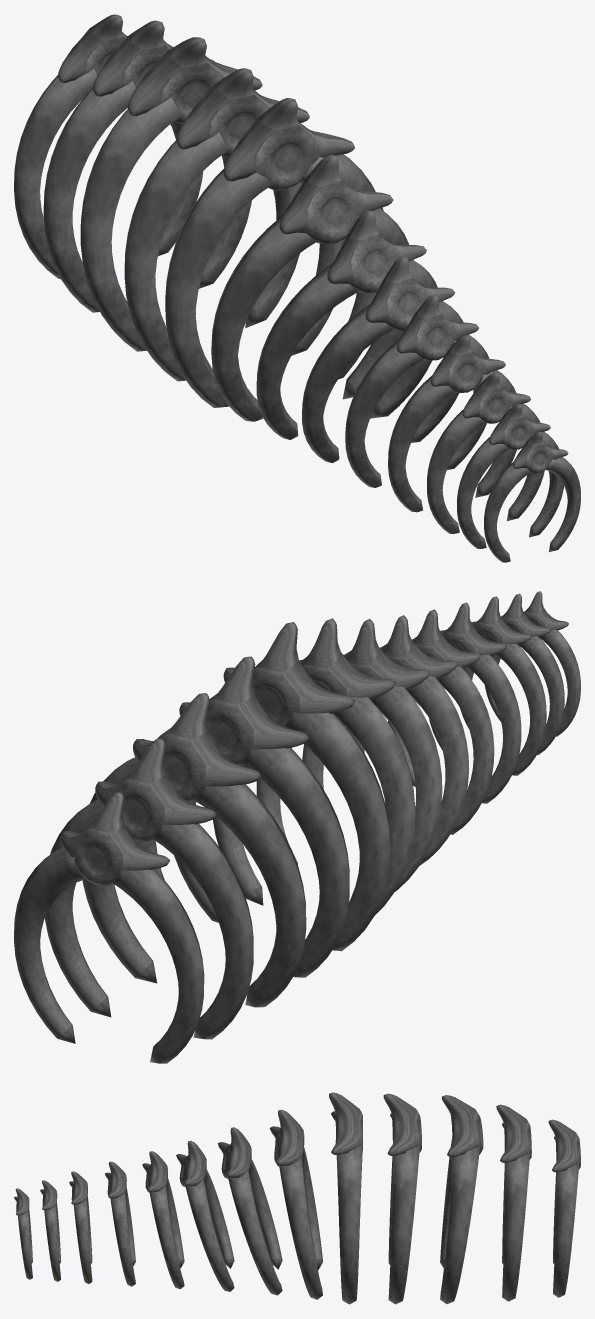
The model's file is Ribs.fbx.
3 renders of one model, top to bottom at view 1: azimuth 30°, elevation 25°; view 2: azimuth 150°, elevation 25°; view 3: azimuth 270°, elevation 25°, orthographic. The views are drawn at different scales.
Visible parts, largest first — view 1: polySurface296; view 2: polySurface296; view 3: polySurface296.
Boxes of the visible parts, left/top/right/bottom form: polySurface296: left=14, top=14, right=580, bottom=562; polySurface296: left=14, top=591, right=580, bottom=1063; polySurface296: left=14, top=1092, right=580, bottom=1304.
Bounding box in the file's own units: 6.54 × 8.49 × 22.49.
